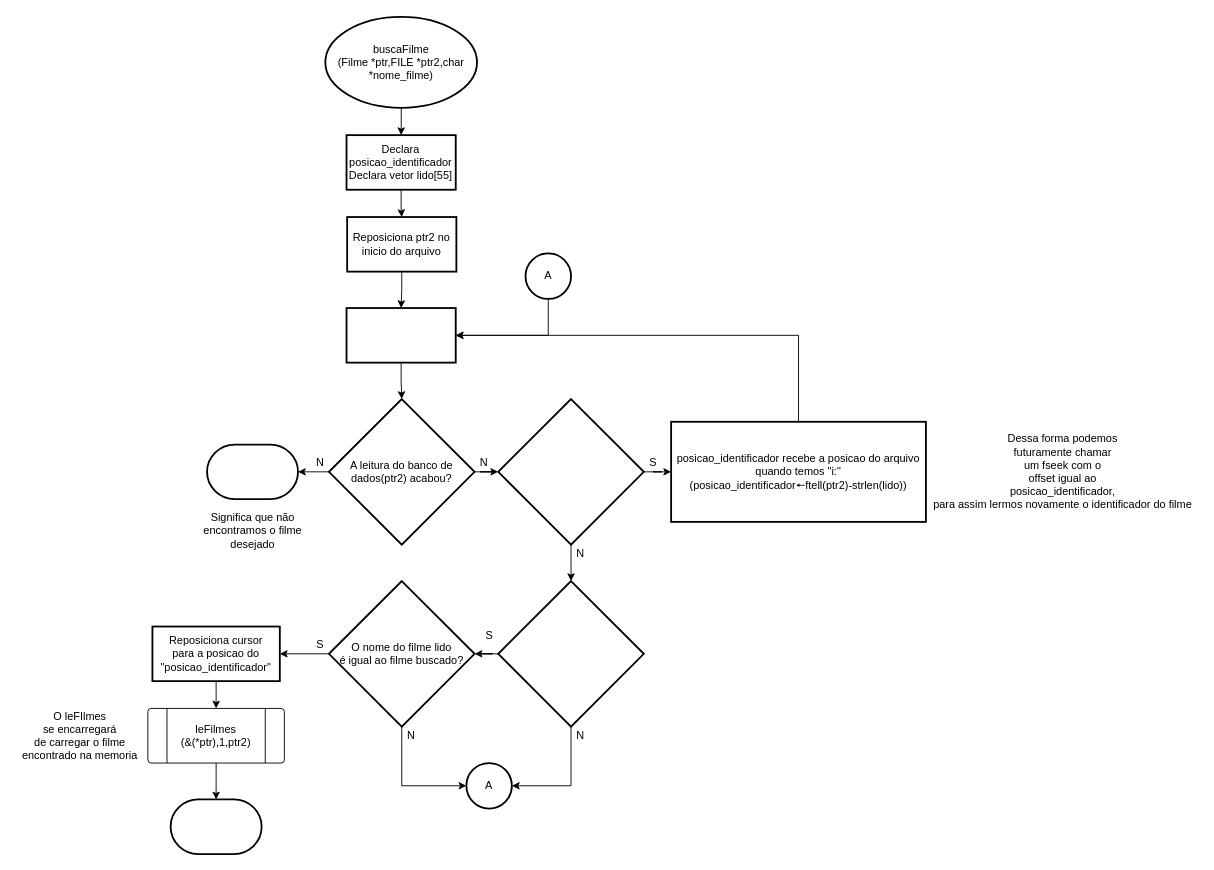
The diagram is 1214 pixels wide and 870 high, and some of its shapes have lost their labels. The shapes that lost their labels are listed below. From the top down, each one's centre as x and y in pixels, then its label:
At (x=400, y=335): "Leia uma linha de ptr2 e atribua ao lido".
At (x=252, y=471): "Retorna -1".
At (x=570, y=471): "A linha lida do arquivo é de um identificador?".
At (x=570, y=653): "A linha lida do arquivo é o nome de um filme?".
At (x=215, y=826): "Retorna 0".
